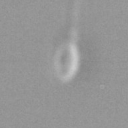normal: (64, 1, 86, 38)
